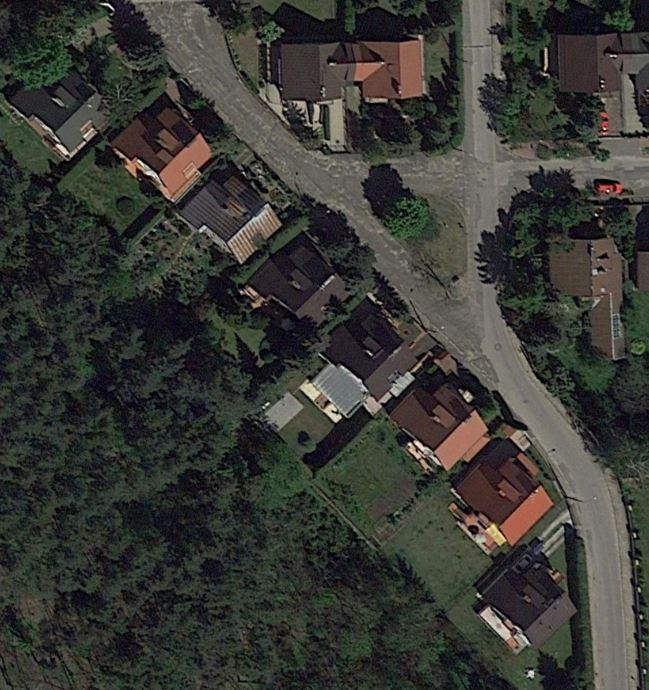family house: (295, 309, 432, 423), (169, 171, 295, 275), (472, 549, 591, 659), (99, 102, 223, 203), (379, 374, 496, 481), (448, 450, 561, 558), (239, 234, 356, 332), (17, 67, 119, 167), (539, 221, 645, 314), (544, 25, 639, 105)
terrace house: (263, 23, 445, 125)
